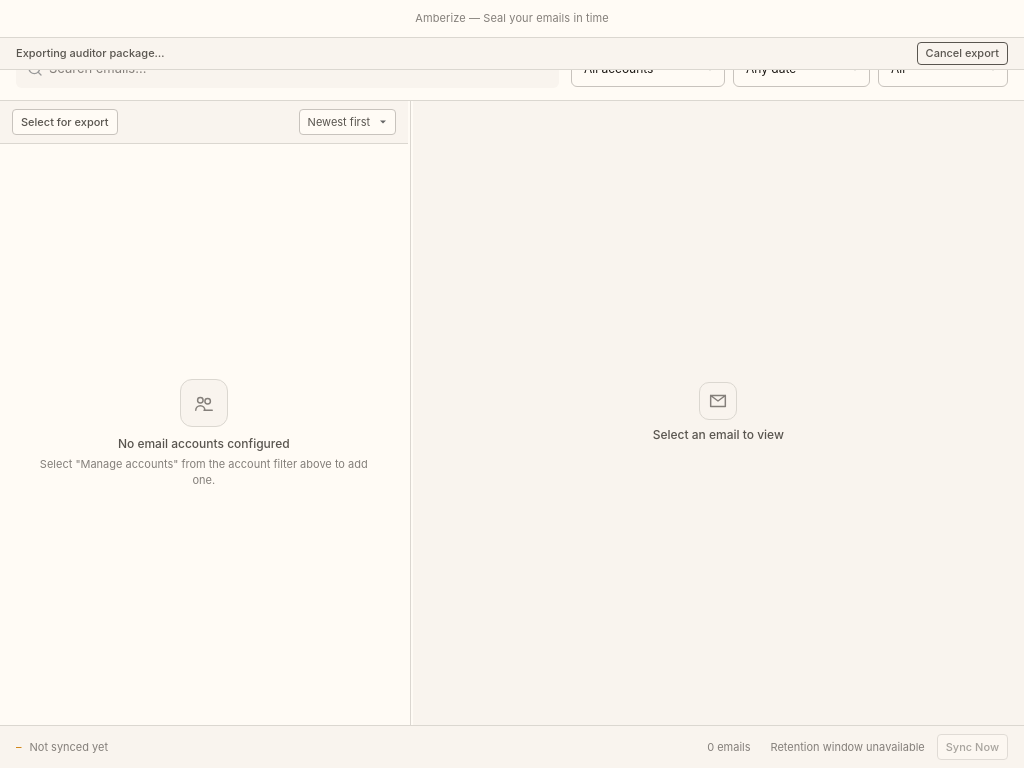
Scenario: App › tray package exports expose cancellation and show backend failures
This screenshot has width=1024, height=768.
expect the field with placeholder "Search emails..." is shown: met, box left=16, top=50, right=559, bottom=88
Click the button "Cancel export" at point(962, 53), box left=917, top=42, right=1008, bottom=64
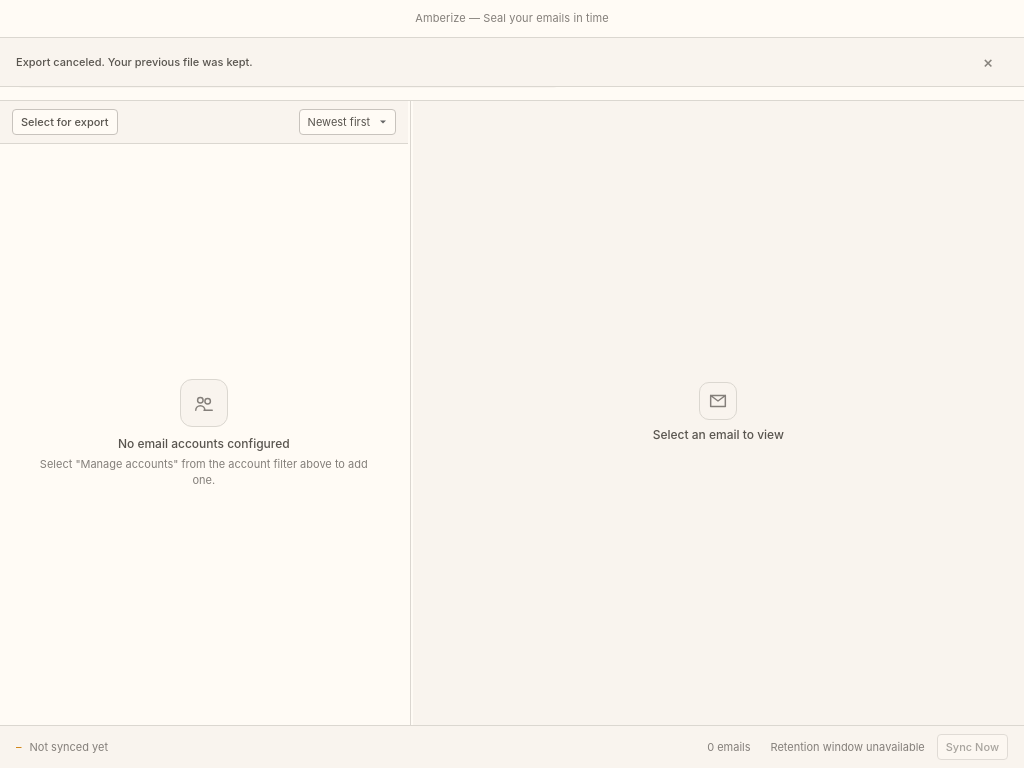
expect the text "Export canceled. Your previous file was kept." is shown: met, box left=16, top=55, right=253, bottom=69
expect the button "Cancel export" is gone: met
